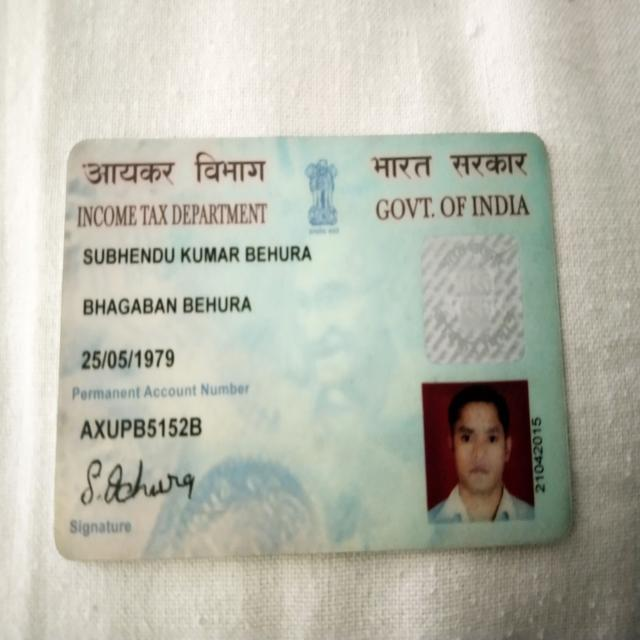pan_card: (58, 135, 570, 559)
